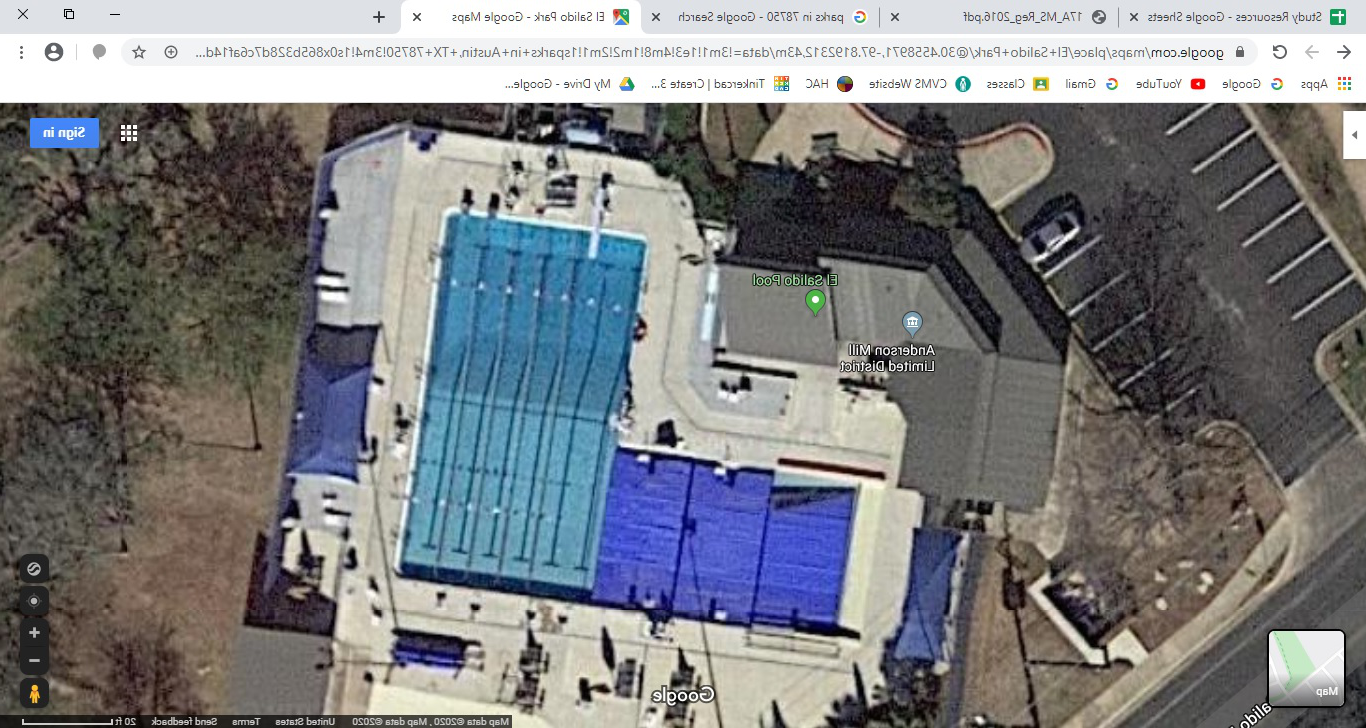pool: (401, 191, 647, 618)
